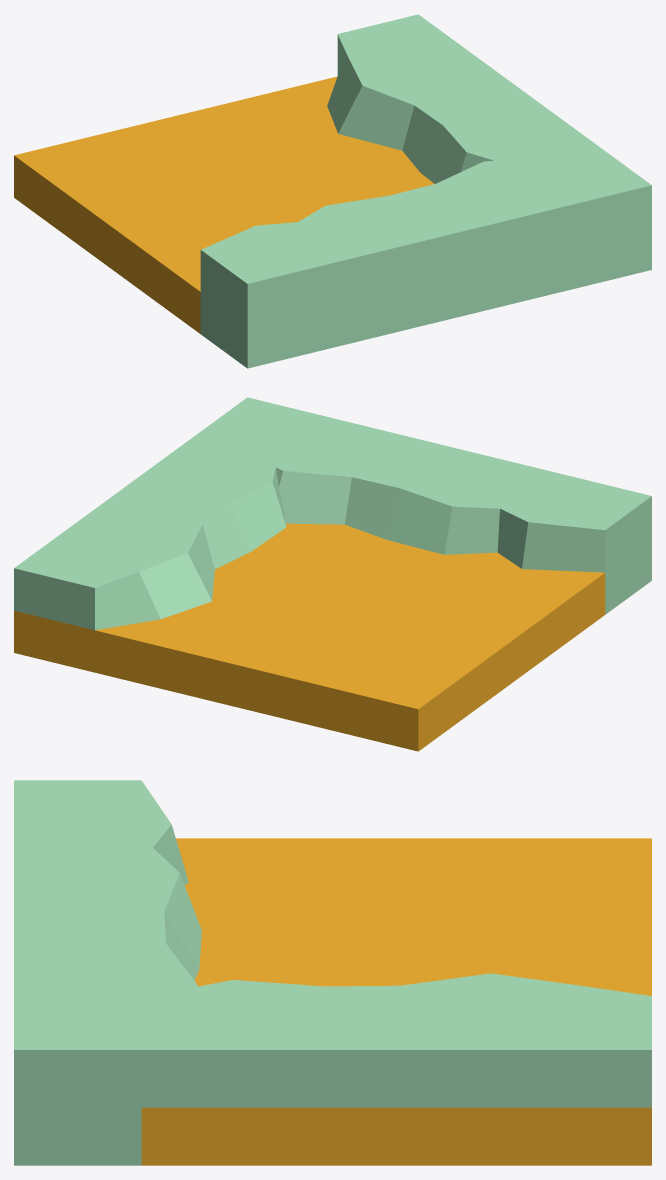
File: GrassCorner_003.fbx
3 renders of one model, top to bottom at view 1: azimuth 30°, elevation 25°; view 2: azimuth 150°, elevation 25°; view 3: azimuth 270°, elevation 25°, orthographic. The views are drawn at different scales.
Visible parts, largest first — view 1: GrassCorner.003; view 2: GrassCorner.003; view 3: GrassCorner.003.
Boxes of the visible parts, x1,y1,x2,y2 form: GrassCorner.003: (14,14,651,368); GrassCorner.003: (14,397,651,751); GrassCorner.003: (14,780,651,1165).
Size of the model in its own units: 200 by 40 by 200.
